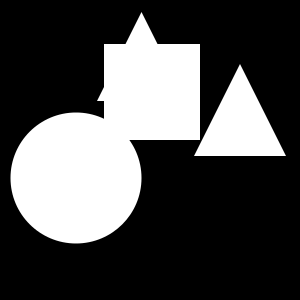circle: (104, 44, 200, 140)
rectangle: (11, 113, 142, 244)
triangle: (194, 64, 286, 156), (97, 12, 186, 101), (218, 116, 235, 133)
